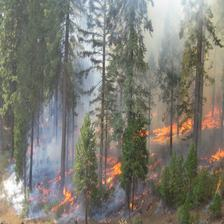fire: (35, 173, 85, 219), (131, 116, 221, 141), (90, 154, 128, 193), (200, 145, 224, 172)
